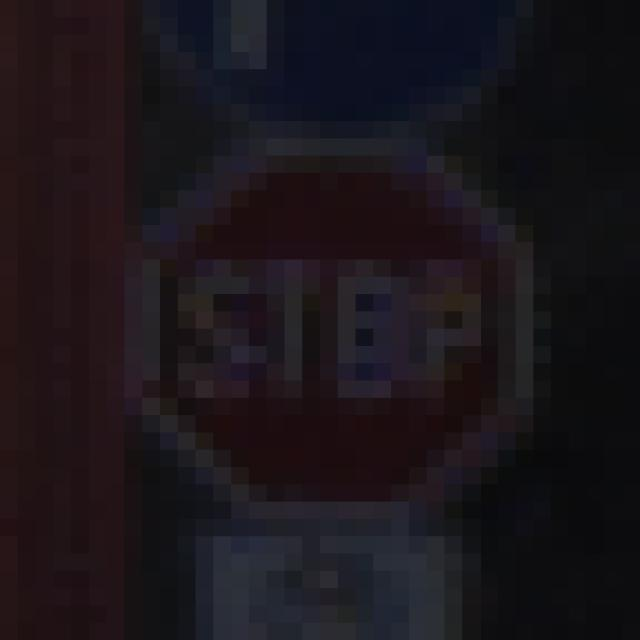STOP: (90, 105, 552, 554)
